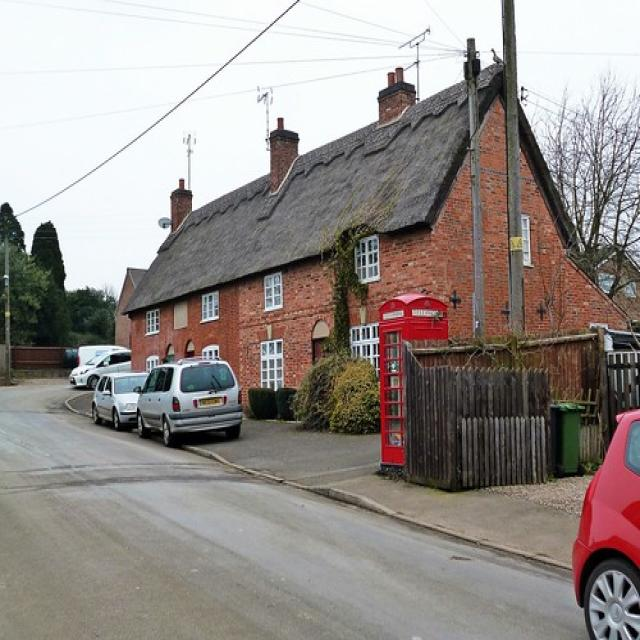building: (118, 47, 632, 447)
